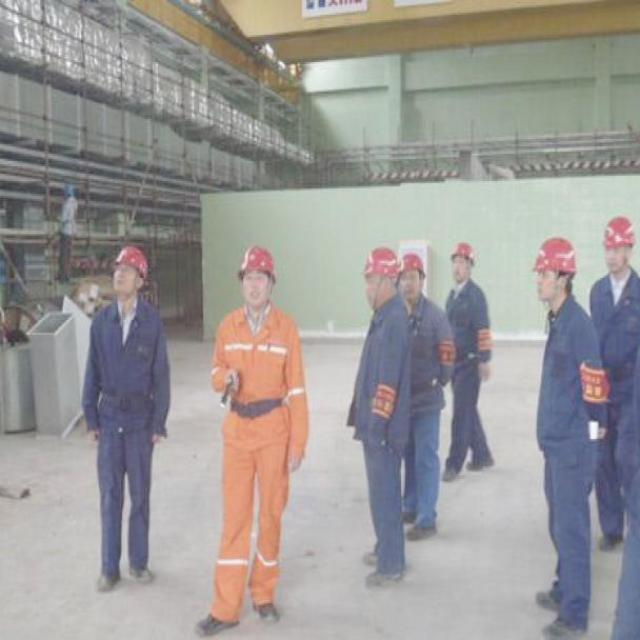helmet: (515, 223, 588, 315), (590, 201, 639, 285), (94, 235, 152, 304), (355, 232, 403, 309), (239, 235, 280, 312), (398, 239, 434, 307), (438, 228, 476, 290)
vest: (200, 298, 308, 602)
